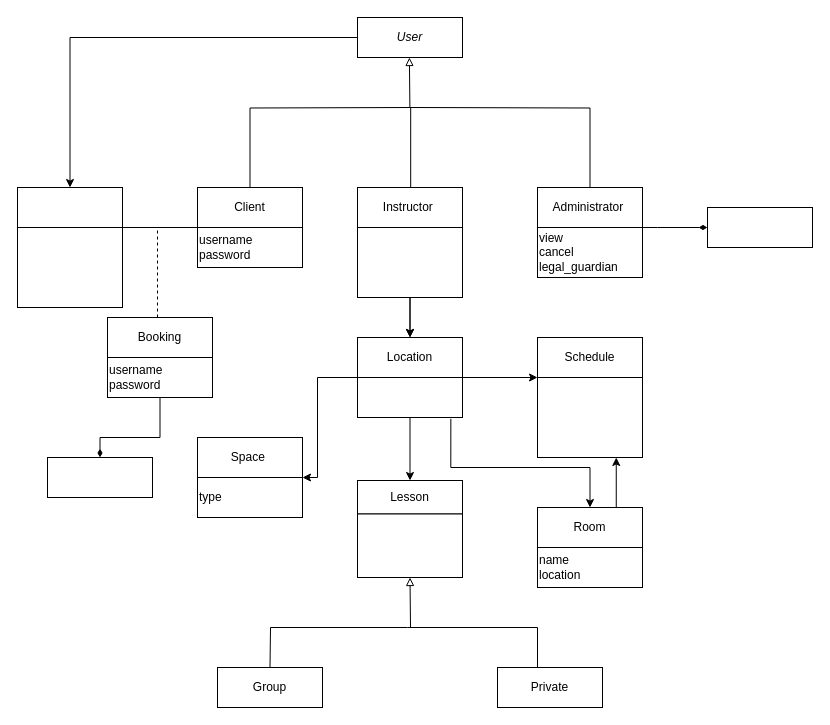
Image size: 830x725. Some labels were removed from this diagram. The shapes that lost their labels are listed below. From the top down, each one's centre as x and y in pixels, then its label:
point (69, 207): Offerings
point (759, 227): Records
point (69, 267): duration availability mode start_time end_time
point (409, 262): name phone_number specialization availability
point (409, 397): city province
point (589, 417): time start_date end_date year duration
point (99, 477): Catalog
point (409, 545): type duration start_date end_date
